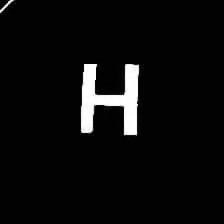LTR_H: (72, 56, 143, 140)
